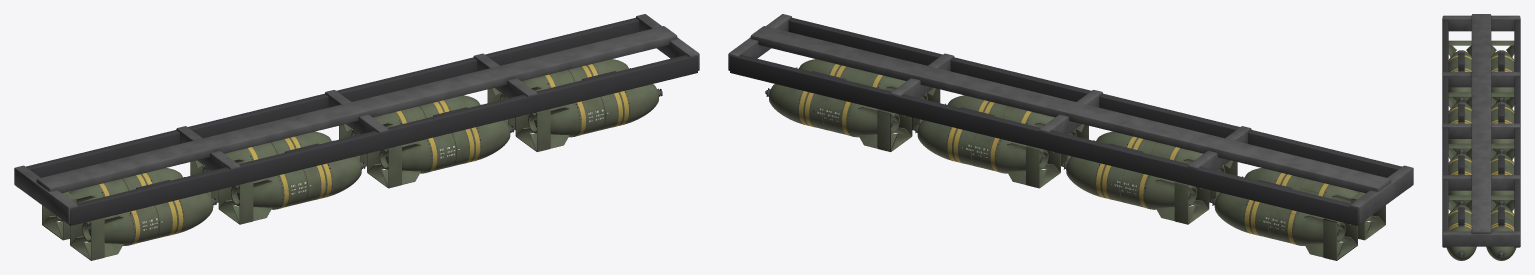
The model's file is bombs_evo_bay.glb.
3 views of the same model, side by side, from view 1: azimuth 30°, elevation 25°; view 2: azimuth 150°, elevation 25°; view 3: azimuth 270°, elevation 25° (orthographic). The views are drawn at different scales.
Parts seen in each view (by area): view 1: bombs_evo_bay; view 2: bombs_evo_bay; view 3: bombs_evo_bay.
Boxes of the visible parts, bbox=[...] form: bombs_evo_bay: bbox=[14, 14, 699, 260]; bombs_evo_bay: bbox=[728, 14, 1413, 260]; bombs_evo_bay: bbox=[1442, 14, 1520, 260].
Size of the model in its own units: 1.87 by 0.1888 by 0.282.
5 materials, 5 textured.
